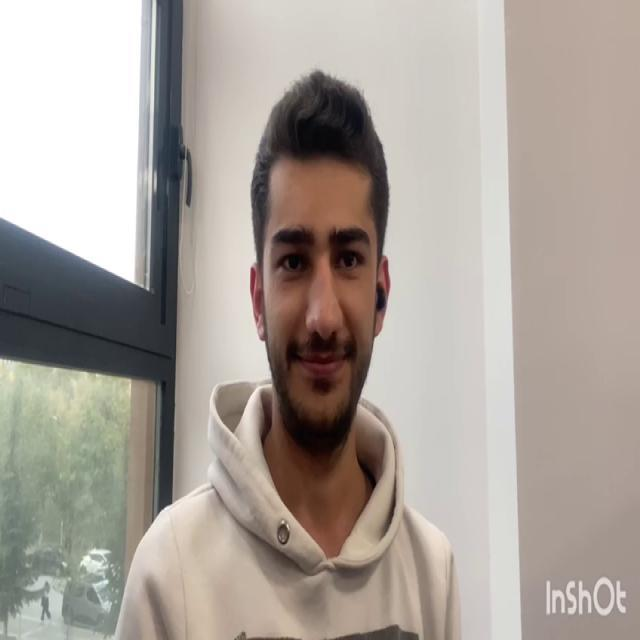happy: (256, 153, 384, 429)
